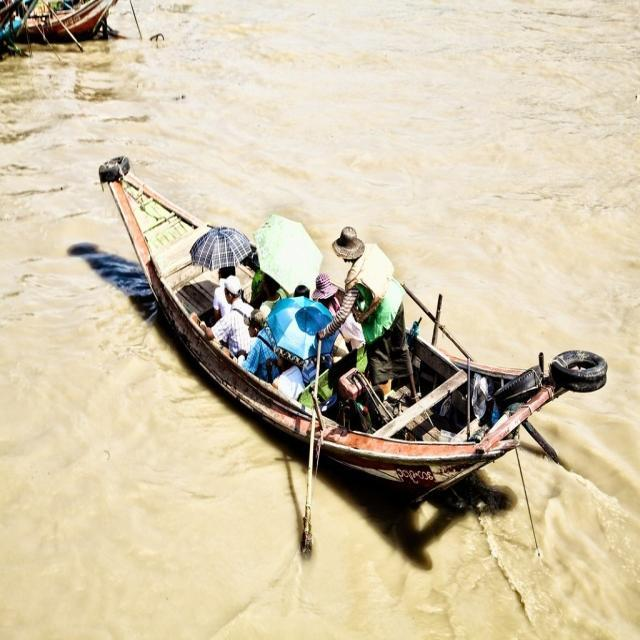boat: (94, 156, 606, 477)
